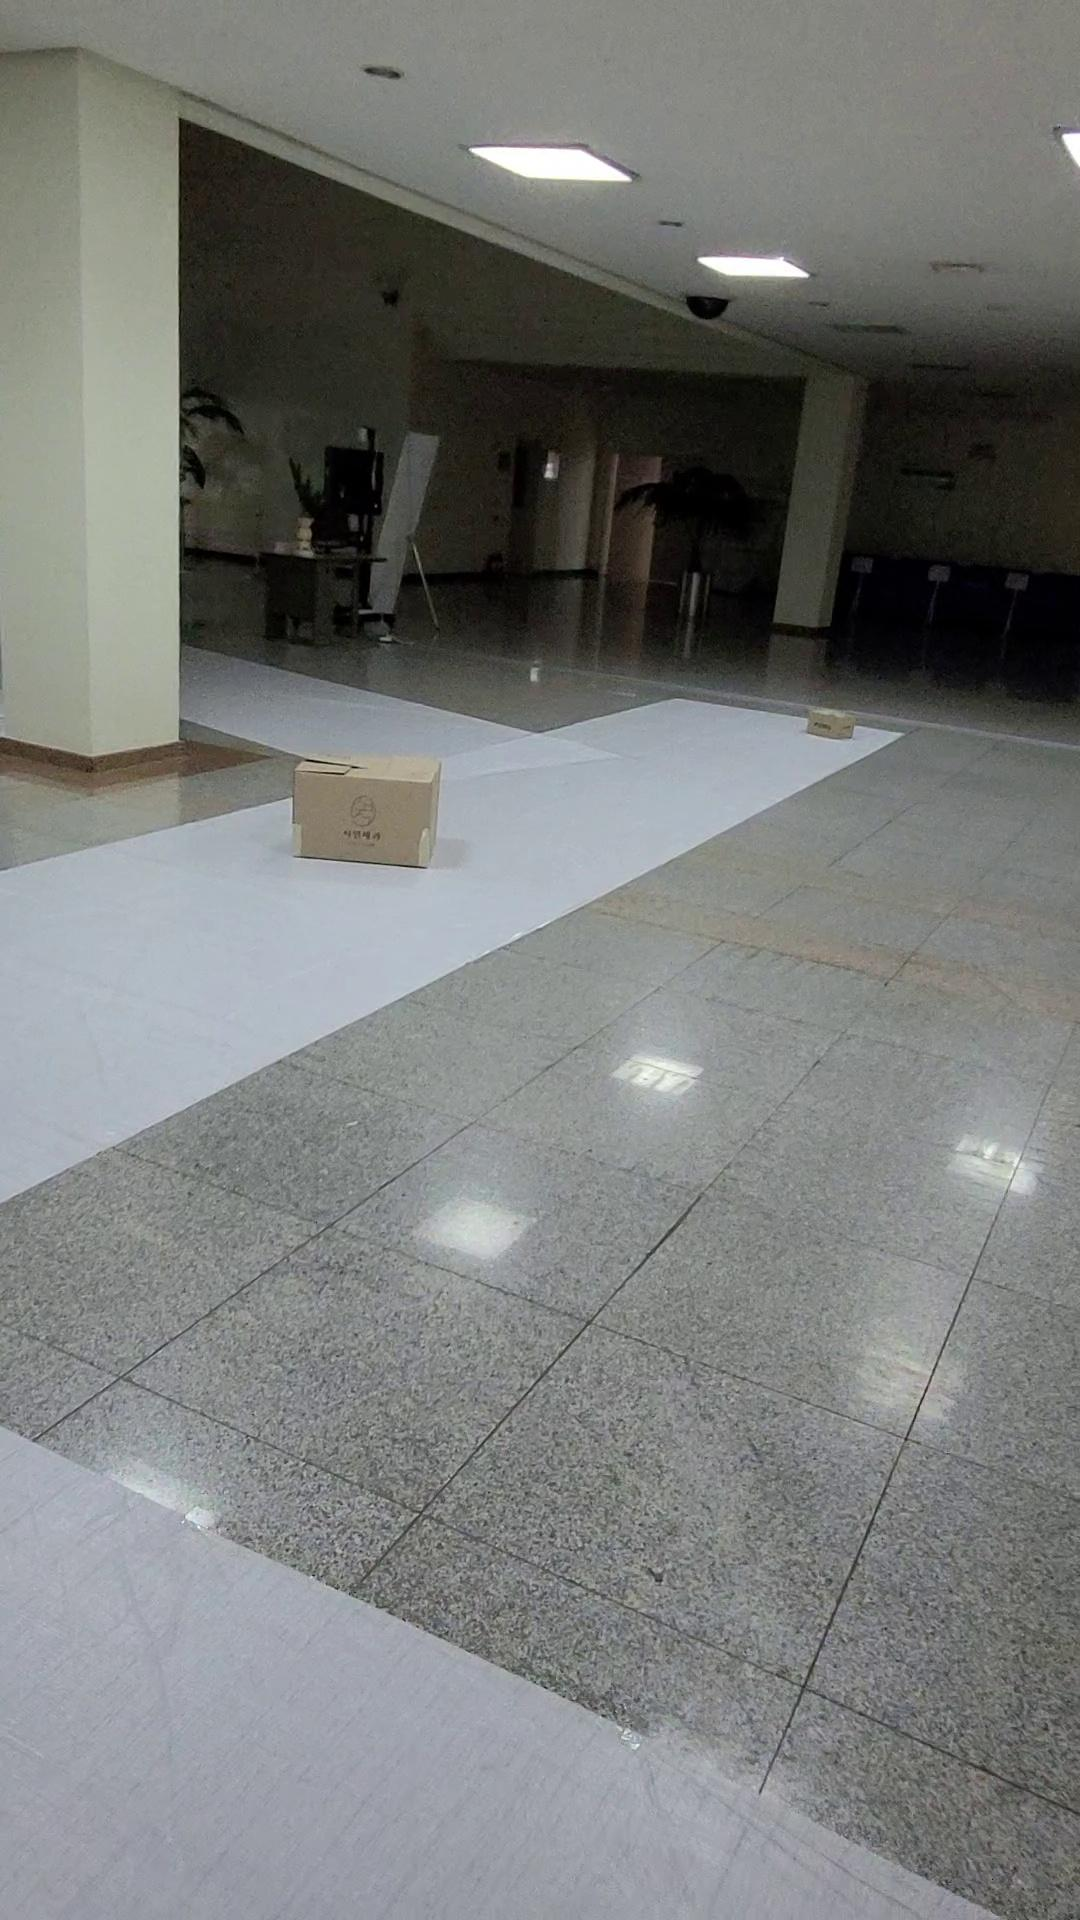Box: (208, 740, 500, 899), (783, 675, 872, 762)
